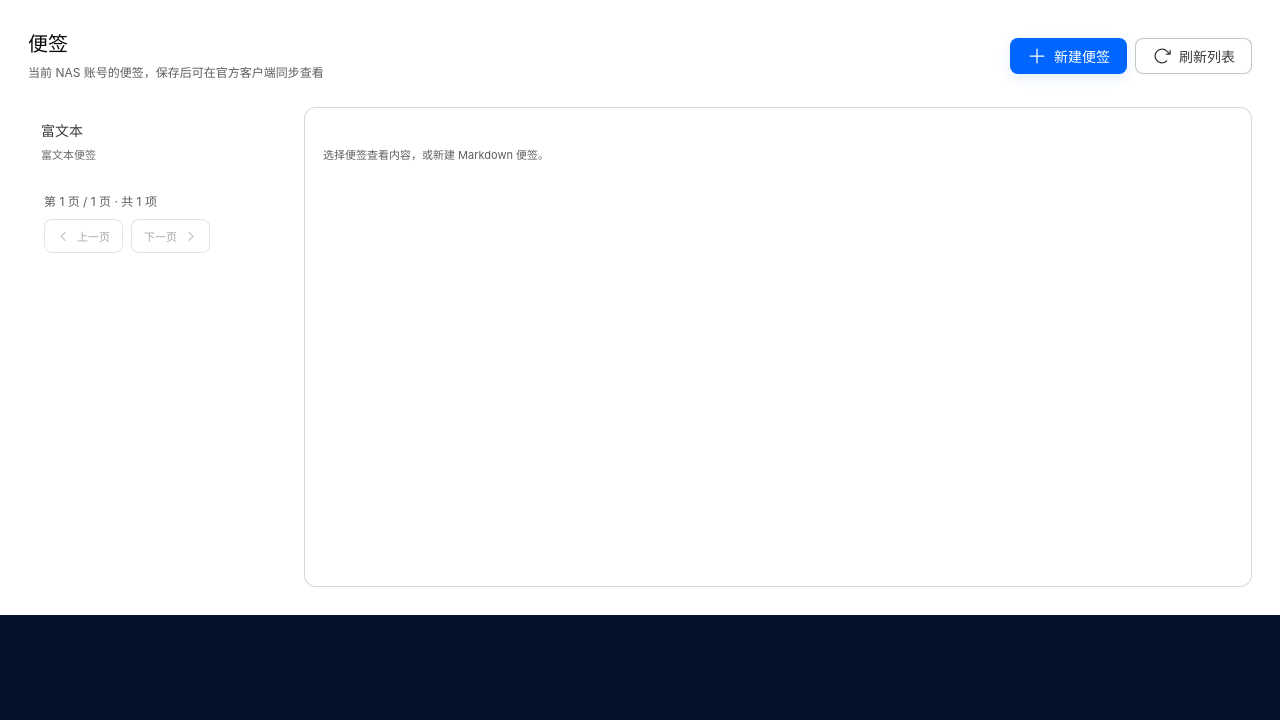
Test case: leaves rich text content intact when editing its title
Click the button "富文本 富文本便签" at (62, 130), box [28,107,288,175]
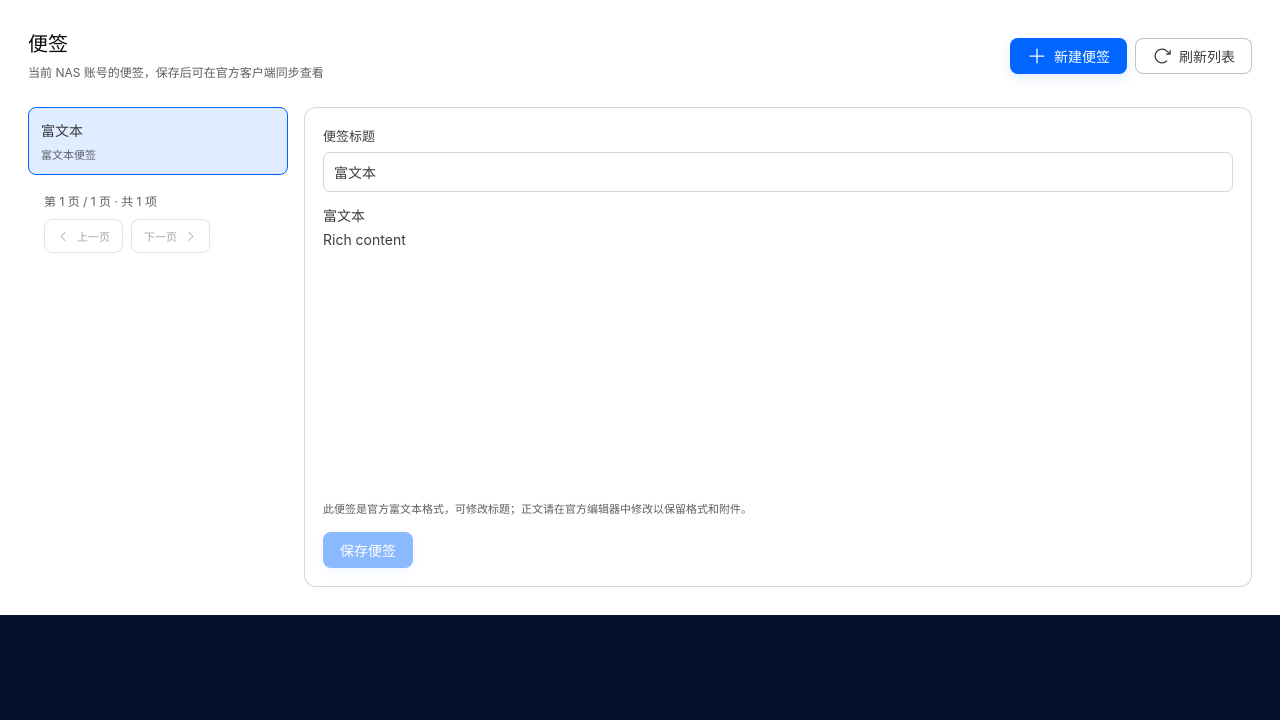
Expected: the text "富文本 Rich content" is shown, [323,207,406,248]
